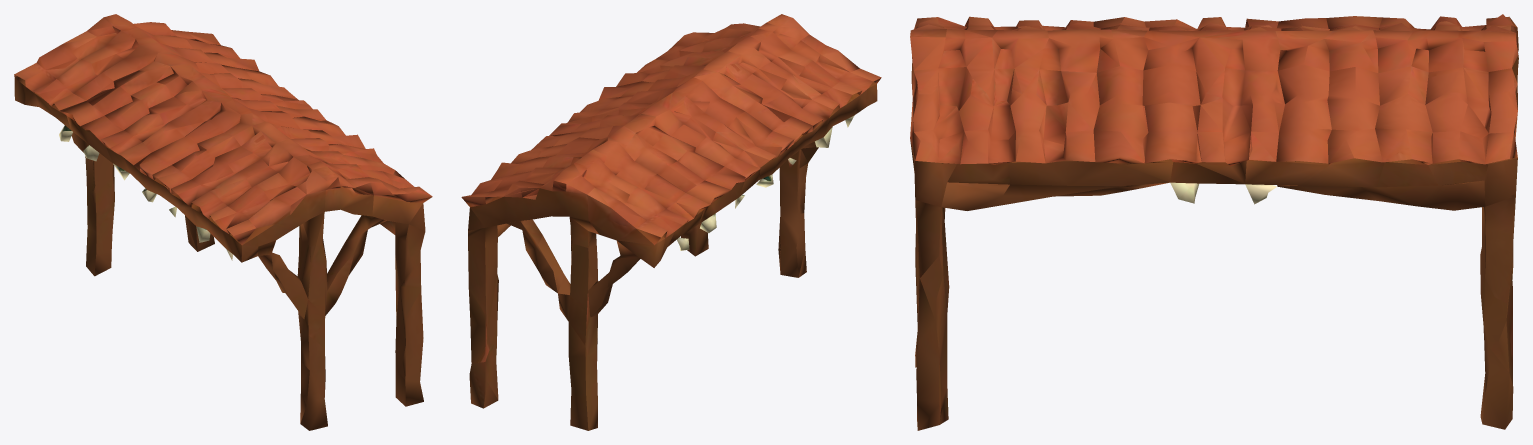
The model's file is pueblo_techo.glb.
The picture shows the model from 3 angles, left to right: view 1: azimuth 30°, elevation 25°; view 2: azimuth 150°, elevation 25°; view 3: azimuth 270°, elevation 25°; orthographic projection. The views are drawn at different scales.
Visible parts, largest first — view 1: tripo_node_f1eeea7b-0180-4993-b7dc-6346284447c0; view 2: tripo_node_f1eeea7b-0180-4993-b7dc-6346284447c0; view 3: tripo_node_f1eeea7b-0180-4993-b7dc-6346284447c0.
Boxes of the visible parts, x1,y1,x2,y2 form: tripo_node_f1eeea7b-0180-4993-b7dc-6346284447c0: (14,14,432,430); tripo_node_f1eeea7b-0180-4993-b7dc-6346284447c0: (461,14,881,430); tripo_node_f1eeea7b-0180-4993-b7dc-6346284447c0: (910,14,1518,430).
Size of the model in its own units: 0.5088 by 0.6015 by 0.9833.
Materials: 1 (1 with a texture image).
